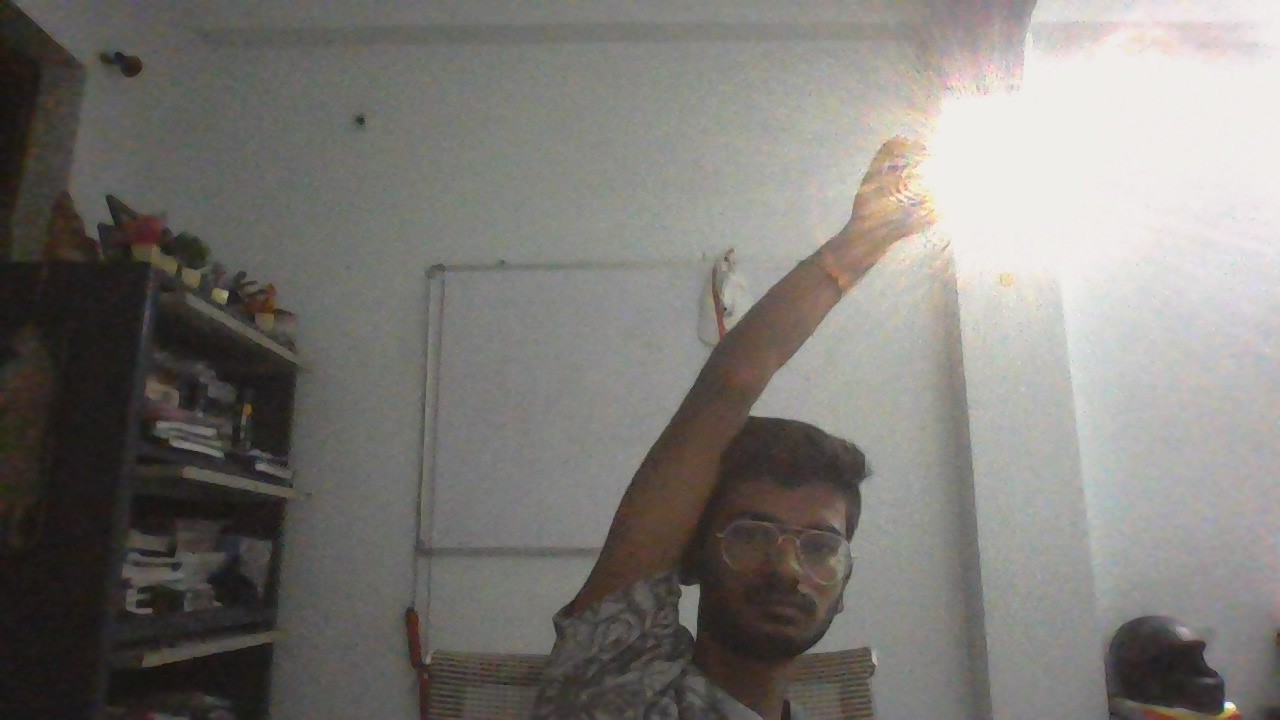Glare: (921, 58, 1169, 259)
